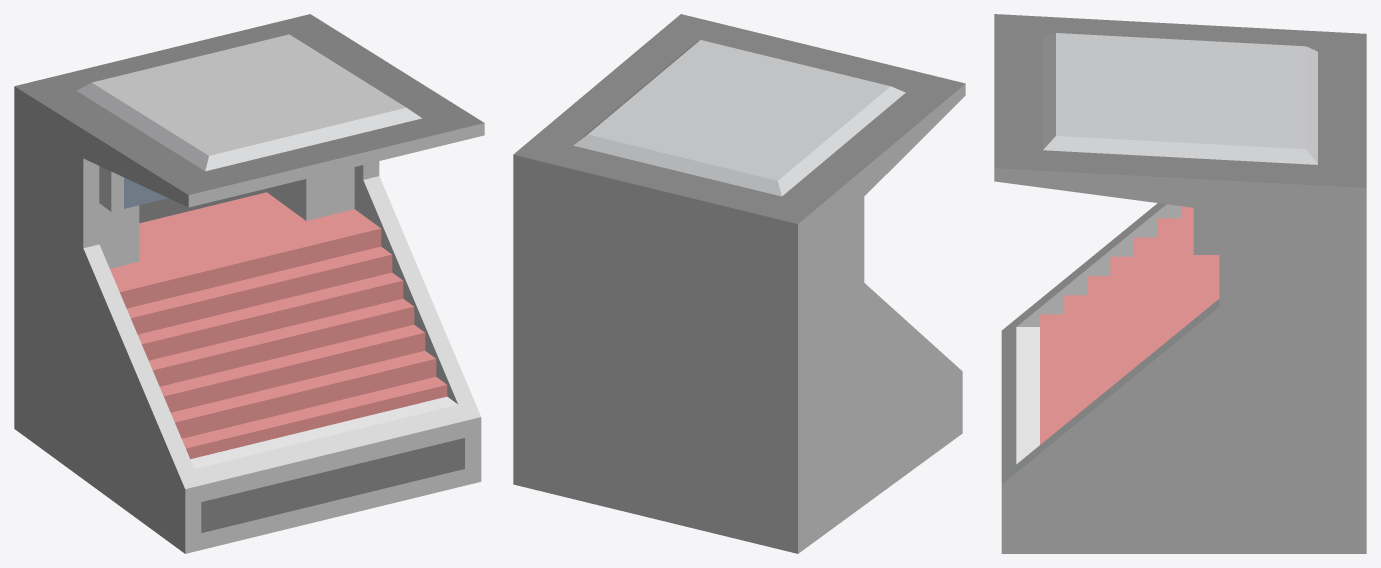
The model's file is Grand Stand Covered.glb.
3 views of the same model, side by side, from view 1: azimuth 30°, elevation 25°; view 2: azimuth 150°, elevation 25°; view 3: azimuth 270°, elevation 25° (orthographic). The views are drawn at different scales.
Visible parts, largest first — view 1: grandStandCovered(Clone); view 2: grandStandCovered(Clone); view 3: grandStandCovered(Clone).
Part boxes in pixels (x1,y1,x2,y2): grandStandCovered(Clone): [14, 14, 484, 553]; grandStandCovered(Clone): [513, 14, 965, 553]; grandStandCovered(Clone): [994, 14, 1366, 553].
Bounding box in the file's own units: 1 × 1.19 × 1.02.
